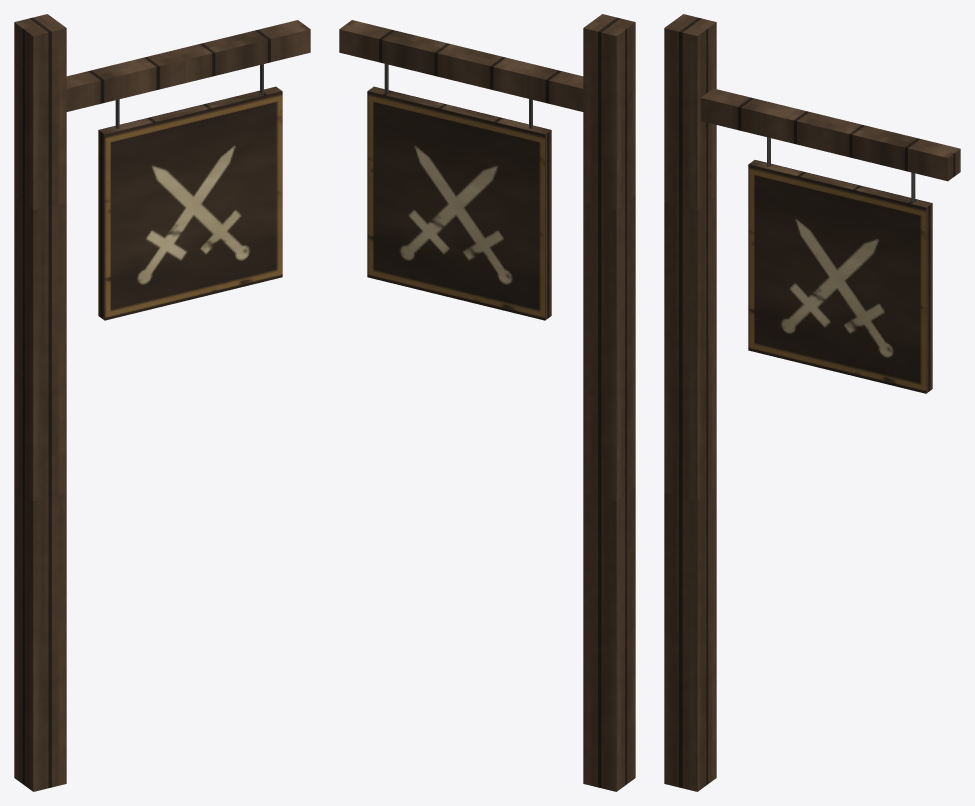
The model's file is Sign_Service_armes_LOD2.gltf.
3 renders of one model, left to right at view 1: azimuth 30°, elevation 25°; view 2: azimuth 150°, elevation 25°; view 3: azimuth 330°, elevation 25°, orthographic.
Parts seen in each view (by area): view 1: Sign_Service_armes_LOD2; view 2: Sign_Service_armes_LOD2; view 3: Sign_Service_armes_LOD2.
Boxes of the visible parts, box(x1,y1,x2,y2) form: Sign_Service_armes_LOD2: box(14, 14, 310, 791); Sign_Service_armes_LOD2: box(339, 14, 635, 791); Sign_Service_armes_LOD2: box(664, 14, 960, 791).
Bounding box in the file's own units: 1.01 × 2.6 × 0.12.
3 materials, 3 textured.
